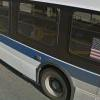Bus: (5, 2, 100, 98)
